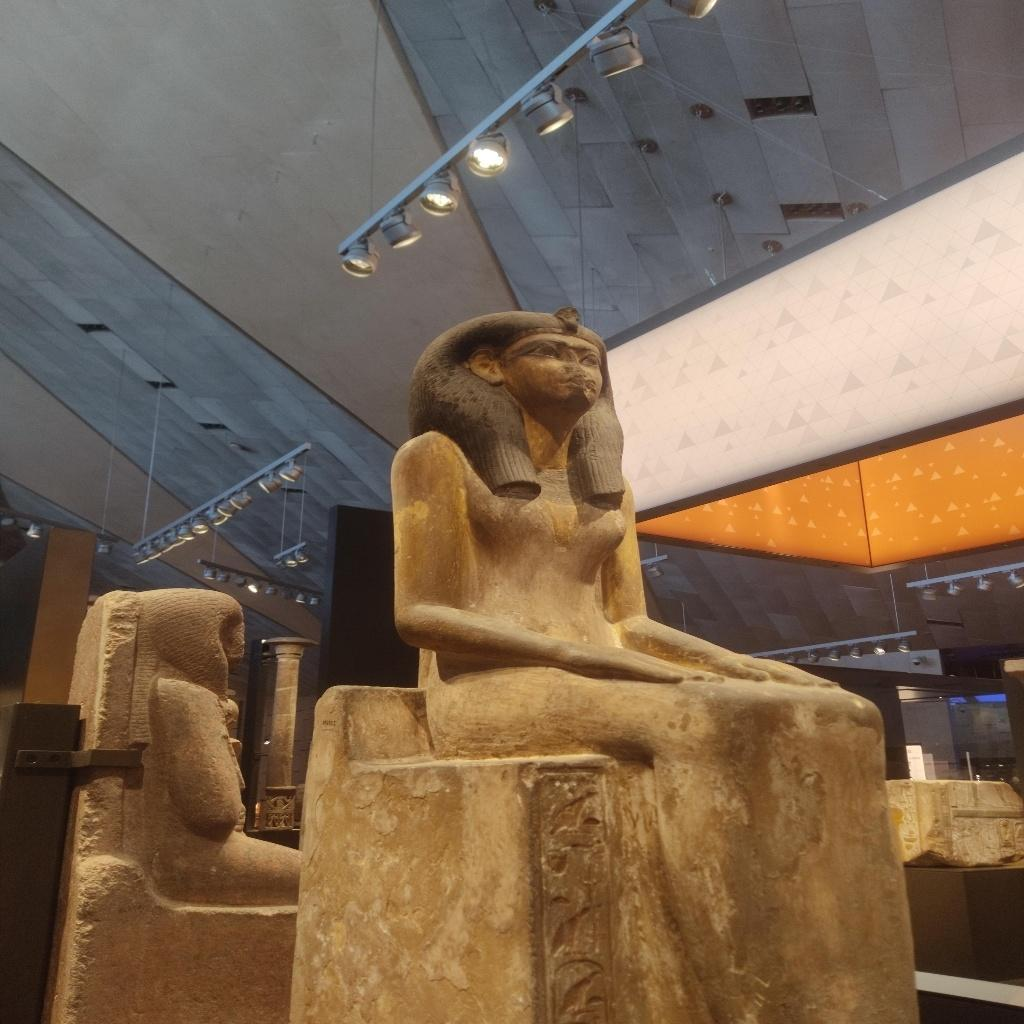Statue of Queen Metnoforet: (384, 305, 912, 1024)
